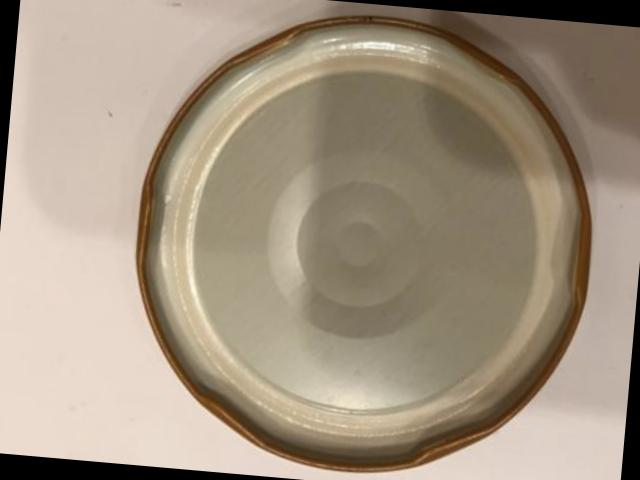metal: (135, 19, 588, 473)
